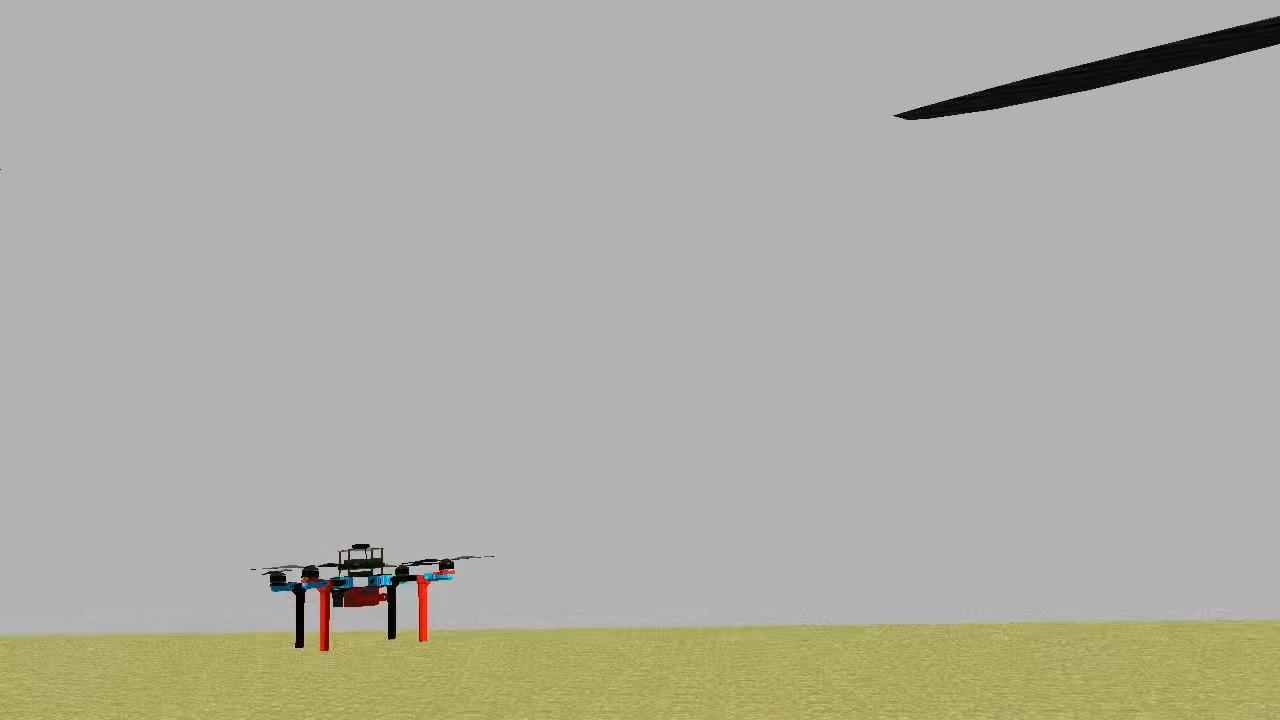UAV: (262, 534, 462, 656)
